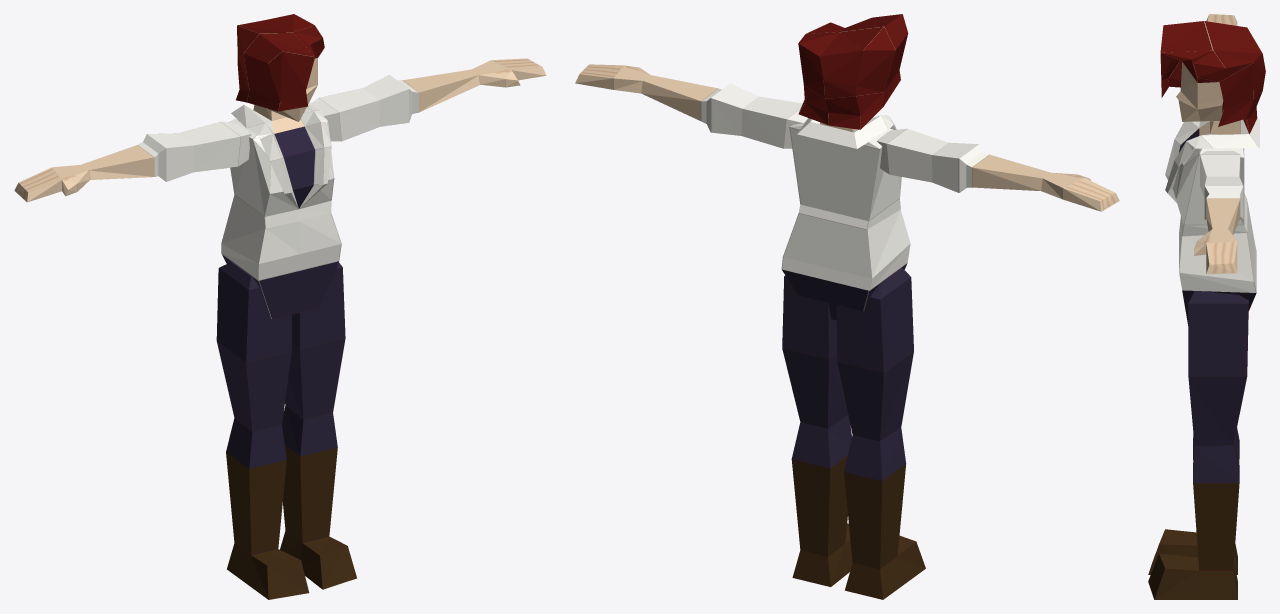
The model's file is Carmen Model.obj.
3 views of the same model, side by side, from view 1: azimuth 30°, elevation 25°; view 2: azimuth 150°, elevation 25°; view 3: azimuth 270°, elevation 25° (orthographic). The views are drawn at different scales.
Visible parts, largest first — view 1: Default; view 2: Default; view 3: Default.
Part boxes in pixels (x1,y1,x2,y2): Default: (14, 14, 546, 599); Default: (575, 14, 1119, 599); Default: (1148, 14, 1265, 599).
Bounding box in the file's own units: 24.18 × 24.19 × 4.75.
1 material, 1 textured.
